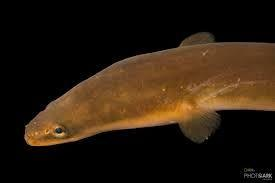Freshwater Eel: (25, 28, 274, 153)
